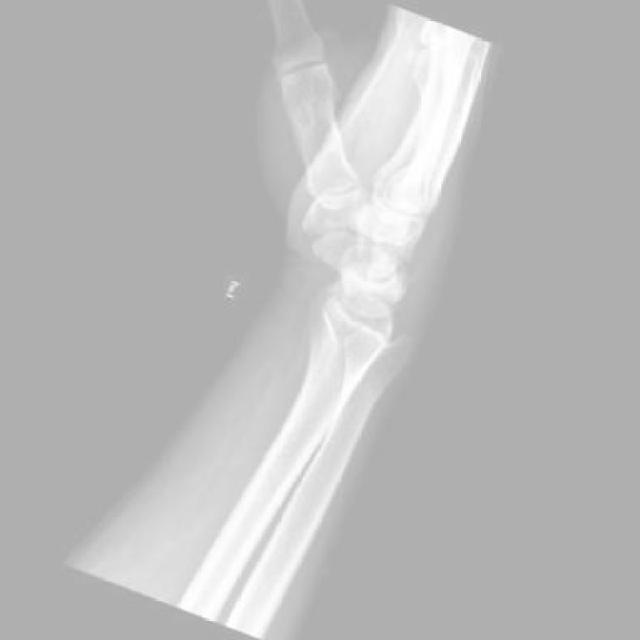Fracture: (383, 246, 429, 292)
